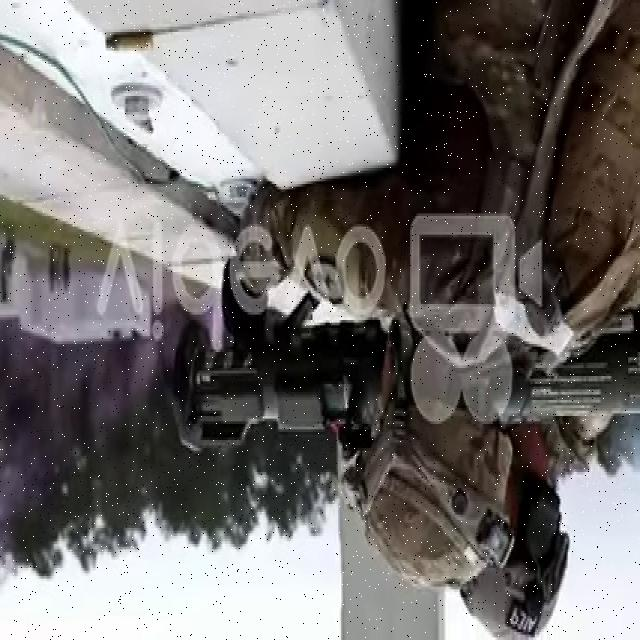bazooka: (164, 308, 640, 457)
